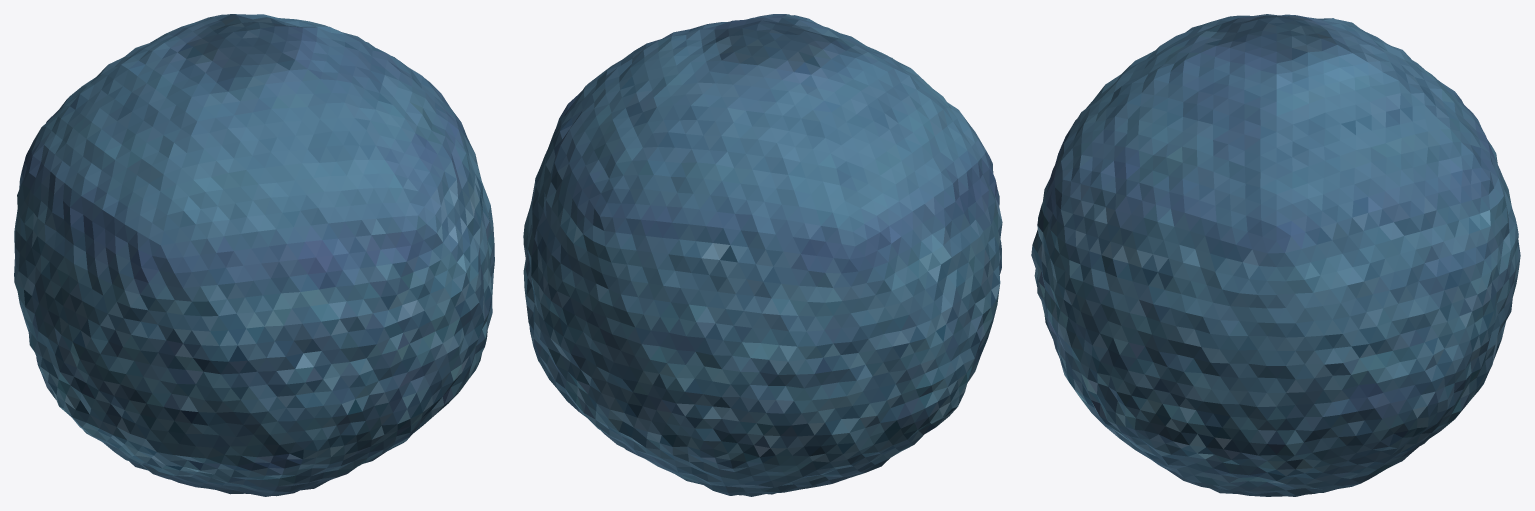
Rendered from neptun.fbx.
3 views of the same model, side by side, from view 1: azimuth 30°, elevation 25°; view 2: azimuth 150°, elevation 25°; view 3: azimuth 270°, elevation 25° (orthographic).
Parts seen in each view (by area): view 1: neptun2; view 2: neptun2; view 3: neptun2.
Part boxes in pixels (left/top/right/bottom): neptun2: left=14, top=14, right=494, bottom=496; neptun2: left=523, top=14, right=1002, bottom=496; neptun2: left=1031, top=14, right=1520, bottom=496.
Size of the model in its own units: 1.93 by 2.02 by 1.97.
